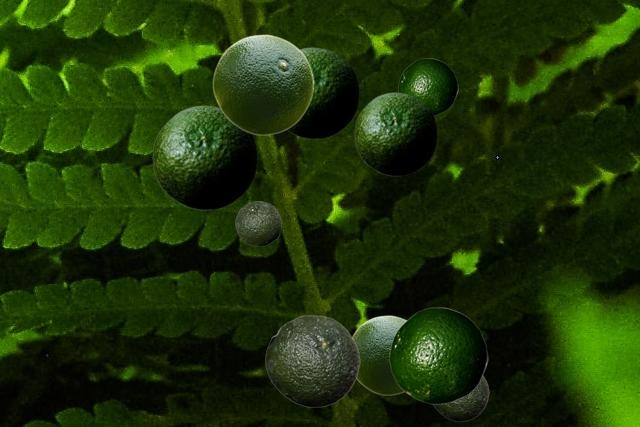calamansi: (152, 105, 256, 209), (212, 34, 313, 134), (389, 307, 487, 403), (265, 315, 359, 406), (354, 92, 436, 175), (287, 47, 358, 138), (352, 315, 406, 394), (398, 58, 457, 115), (432, 376, 488, 420), (235, 201, 280, 245)
